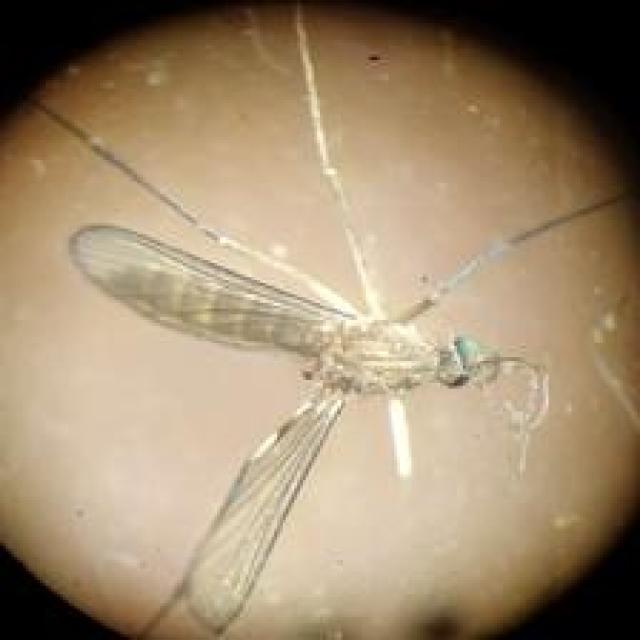Culex: (28, 94, 640, 639)
